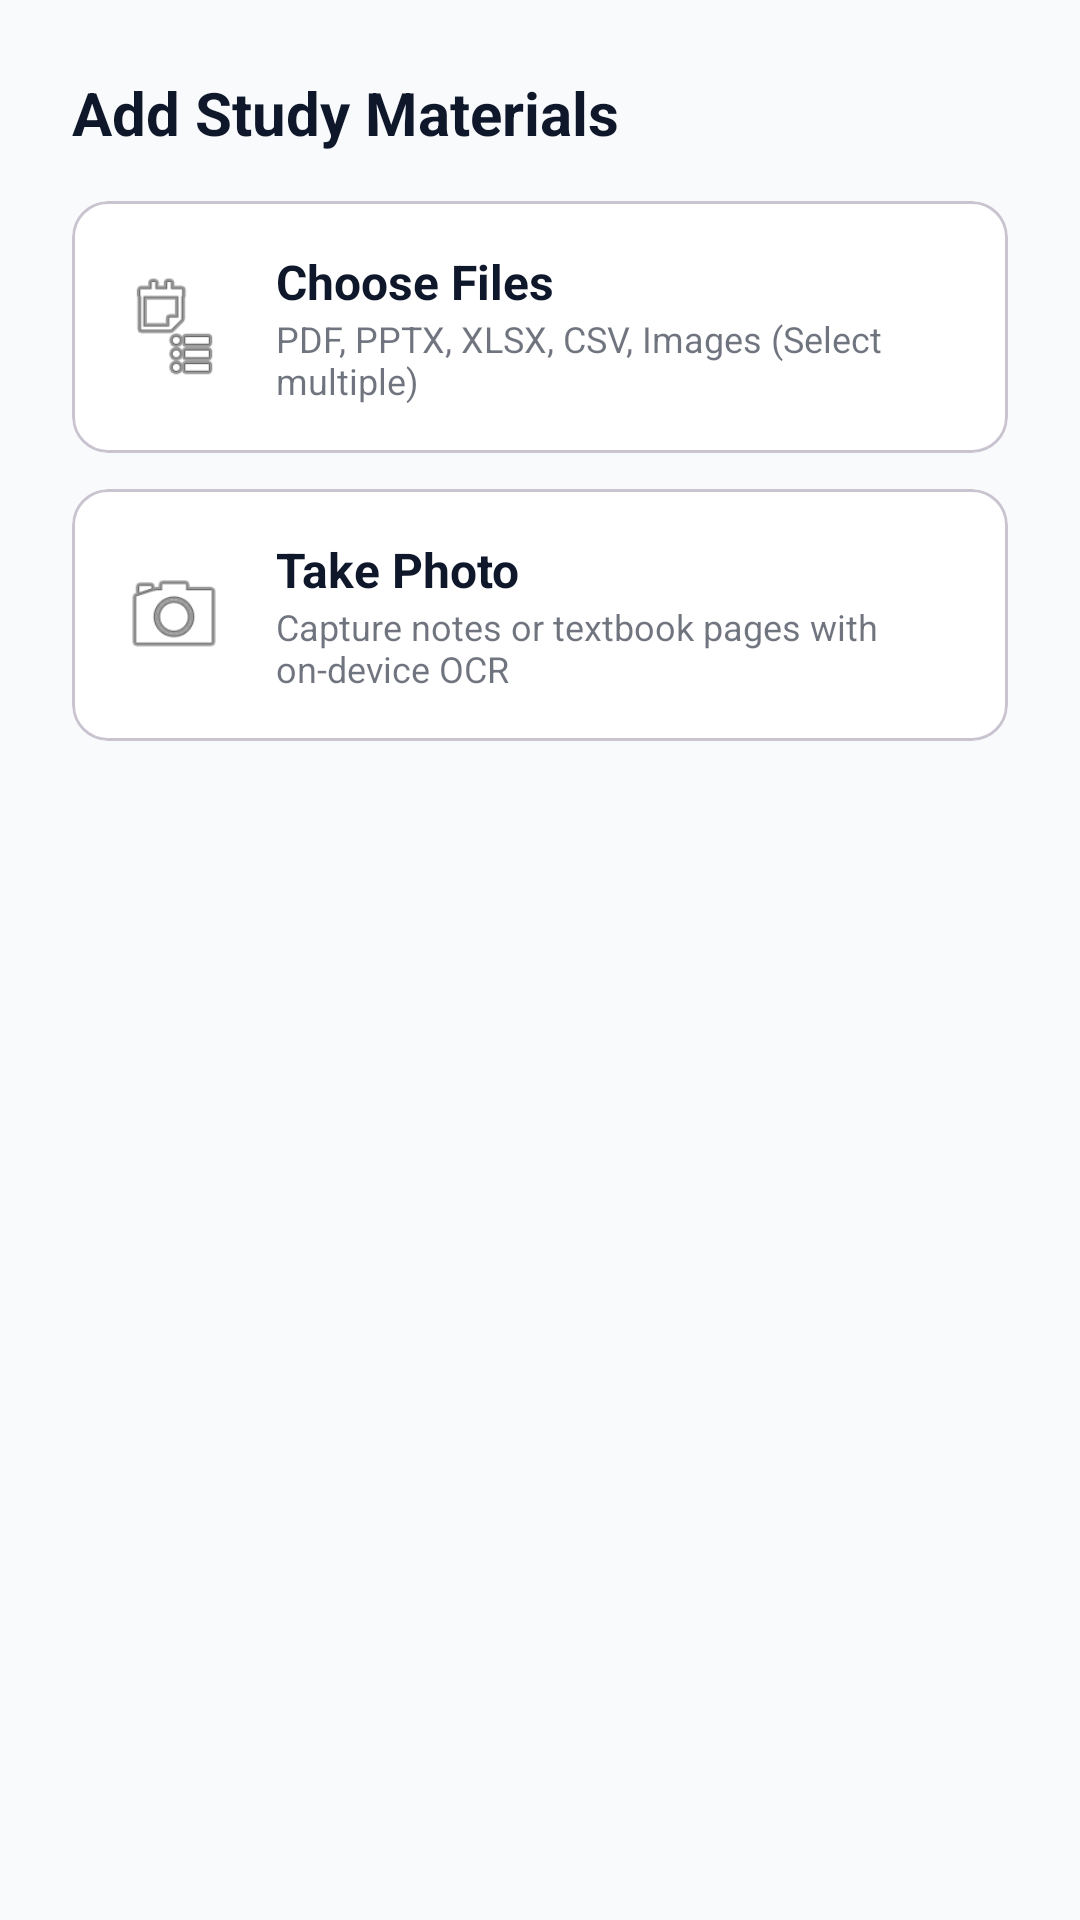

Icon click points for this 1080 × 1920 phone screenshot, format [x,y]:
Camera: [174,613]
Document: [175,326]
